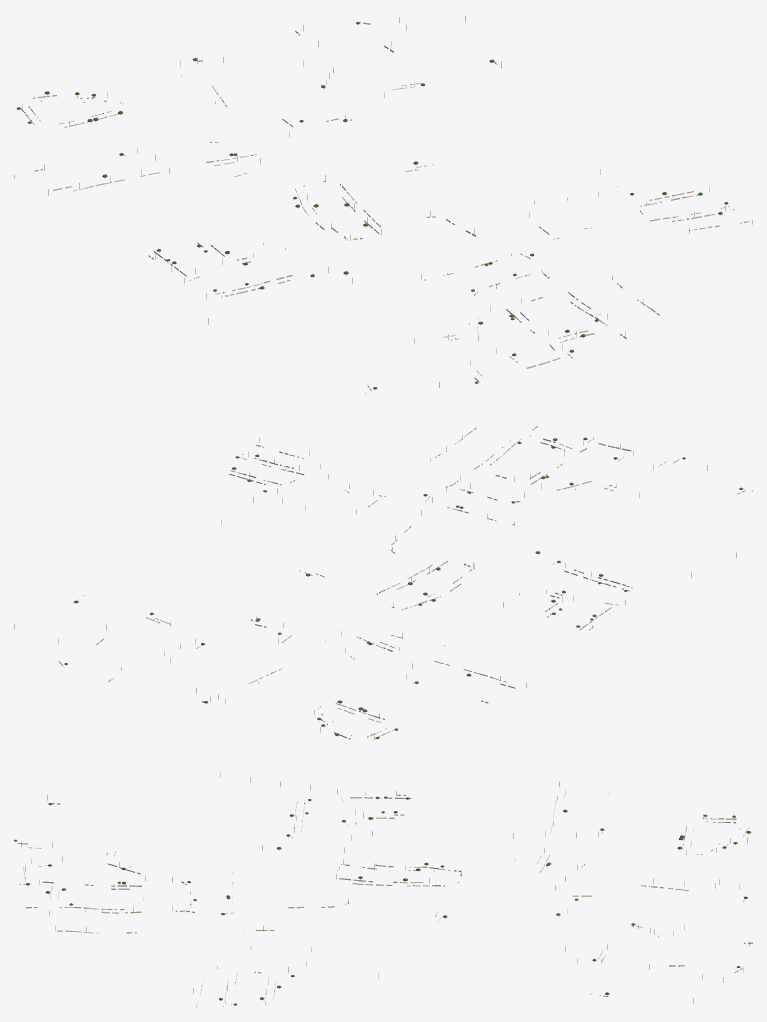
The model's file is nd_stm_m8_m5.glb.
The picture shows the model from 3 angles, top to bottom: view 1: azimuth 30°, elevation 25°; view 2: azimuth 150°, elevation 25°; view 3: azimuth 270°, elevation 25°; orthographic projection. The views are drawn at different scales.
Parts seen in each view (by area): view 1: nd_stm_m8_m5_lod0; view 2: nd_stm_m8_m5_lod0; view 3: nd_stm_m8_m5_lod0.
Boxes of the visible parts, bbox=[...] form: nd_stm_m8_m5_lod0: bbox=[14, 16, 752, 393]; nd_stm_m8_m5_lod0: bbox=[14, 426, 752, 739]; nd_stm_m8_m5_lod0: bbox=[14, 772, 752, 1007].
Size of what is drawn, in the model's own units: 745 by 19.86 by 998.
